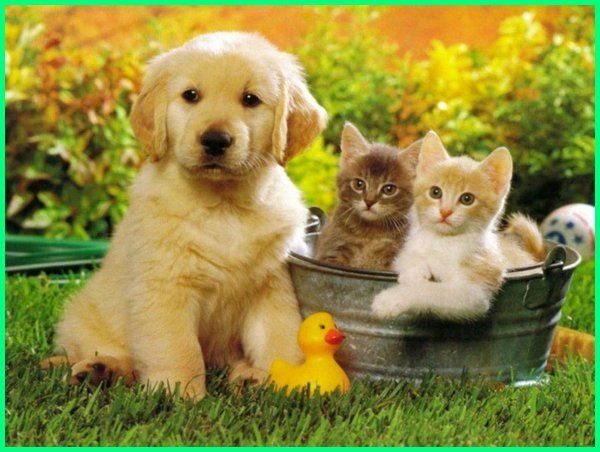anjing: (57, 24, 332, 422)
kucing: (415, 113, 553, 319), (329, 112, 416, 300)
